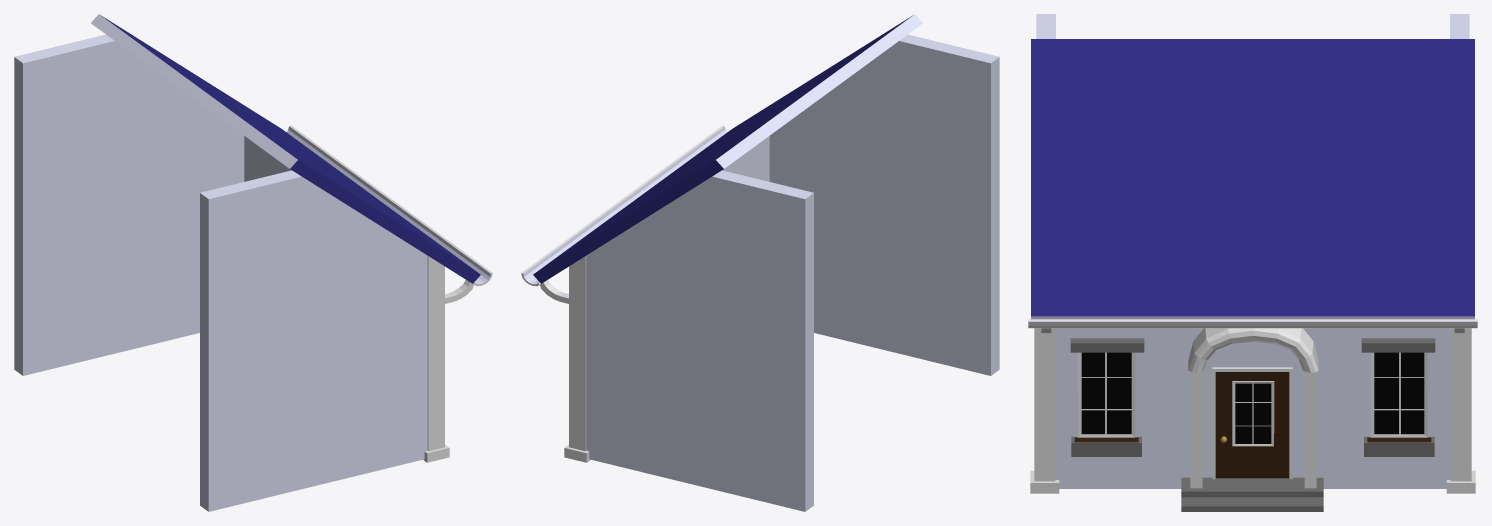
Rendered from house 1.fbx.
3 views of the same model, side by side, from view 1: azimuth 30°, elevation 25°; view 2: azimuth 150°, elevation 25°; view 3: azimuth 270°, elevation 25° (orthographic). The views are drawn at different scales.
Visible parts, largest first — view 1: Cube; view 2: Cube; view 3: Cube.
Boxes of the visible parts, box(x1,y1,x2,y2) form: Cube: box(14, 14, 492, 511); Cube: box(521, 14, 999, 511); Cube: box(1028, 14, 1477, 511).
Bounding box in the file's own units: 1765 × 2010 × 2198.
